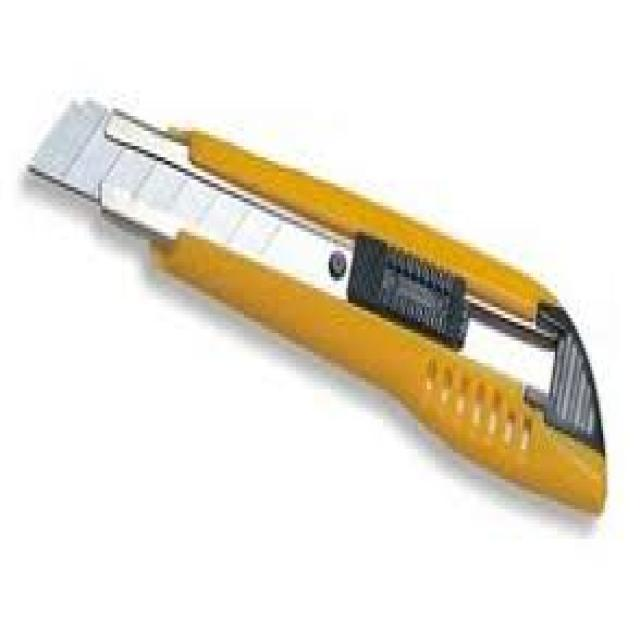cutter: (14, 80, 612, 532)
